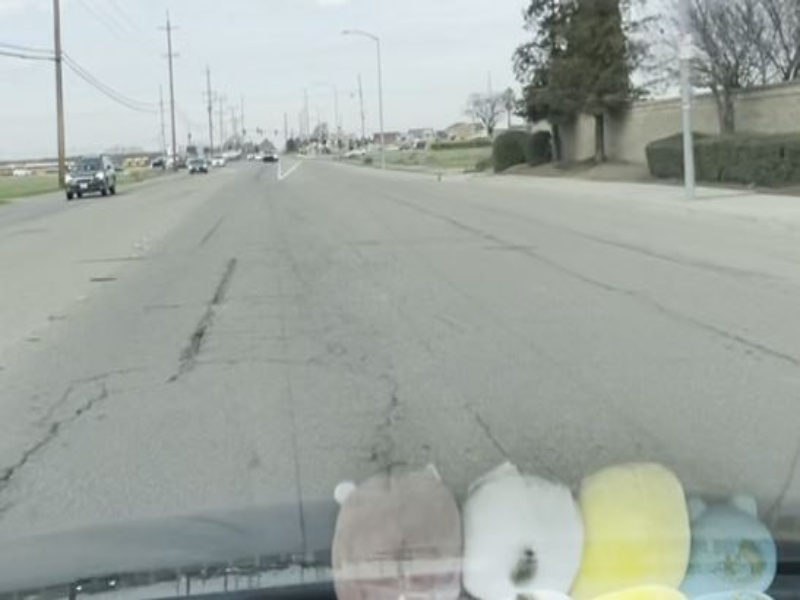pothole: (177, 323, 209, 370), (209, 257, 236, 309)
